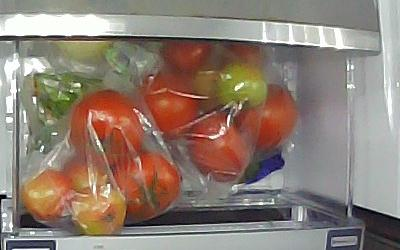tomato_vinyl: (71, 89, 144, 167), (113, 151, 180, 221), (237, 83, 301, 149), (191, 113, 250, 182), (146, 68, 199, 138), (24, 167, 76, 224), (74, 184, 128, 236), (212, 65, 268, 112), (162, 42, 215, 71), (64, 160, 109, 193), (218, 45, 272, 70), (193, 66, 220, 106)
